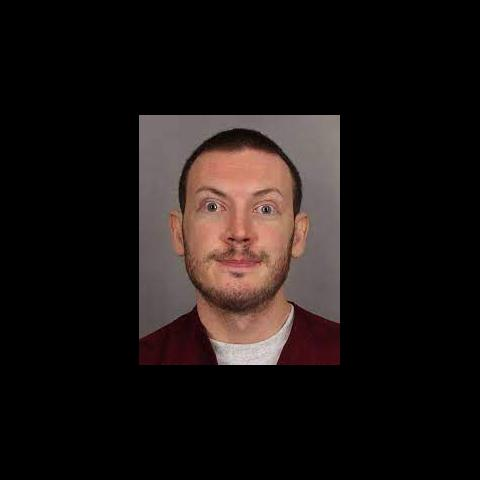opened: (190, 180, 290, 225)
